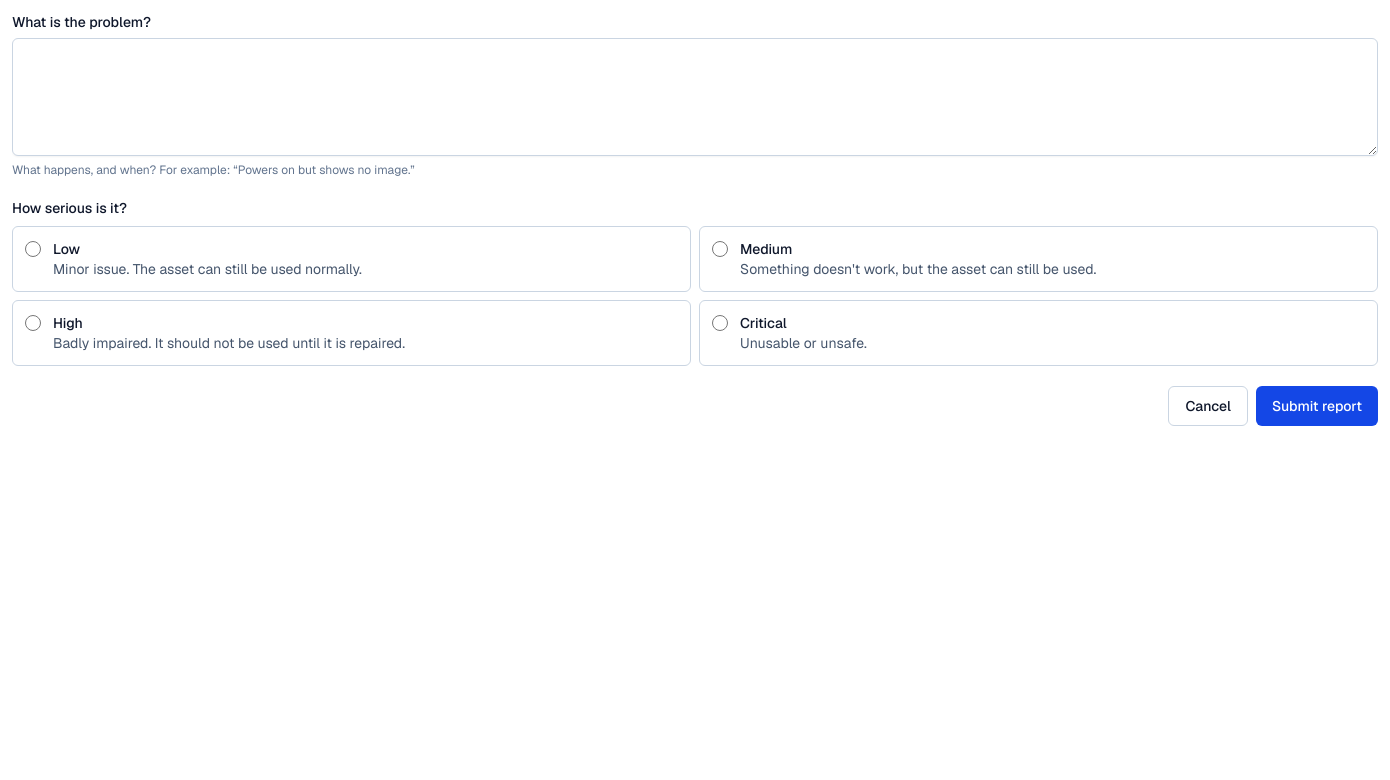
Test: ReportProblemForm › submits_the_description_and_priority_and_keeps_them_after_an_error
In the text box labelled "What is the problem?": point(695, 97) top-left (12, 38), bottom-right (1378, 156), type "Powers on, no image"
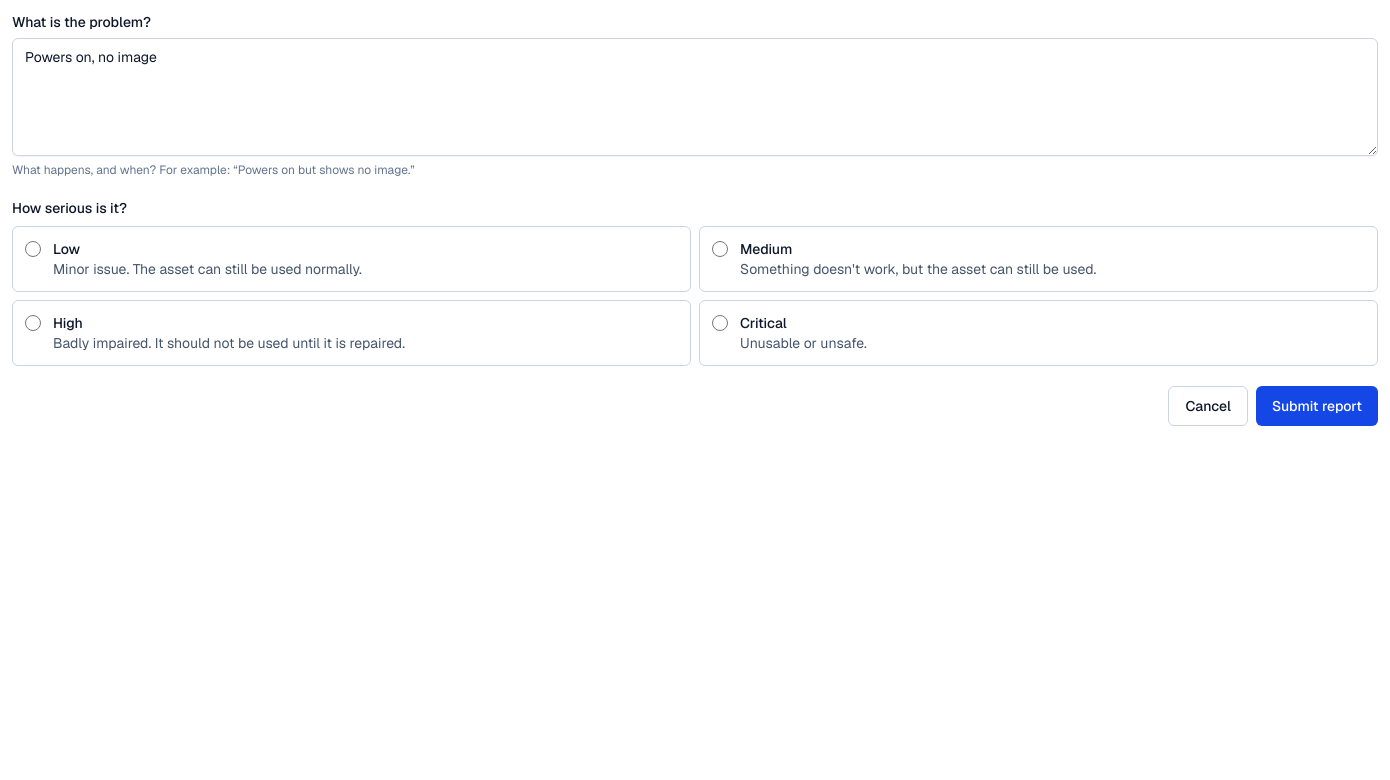
Click the radio button labelled "High": point(33, 323) top-left (25, 315), bottom-right (41, 331)
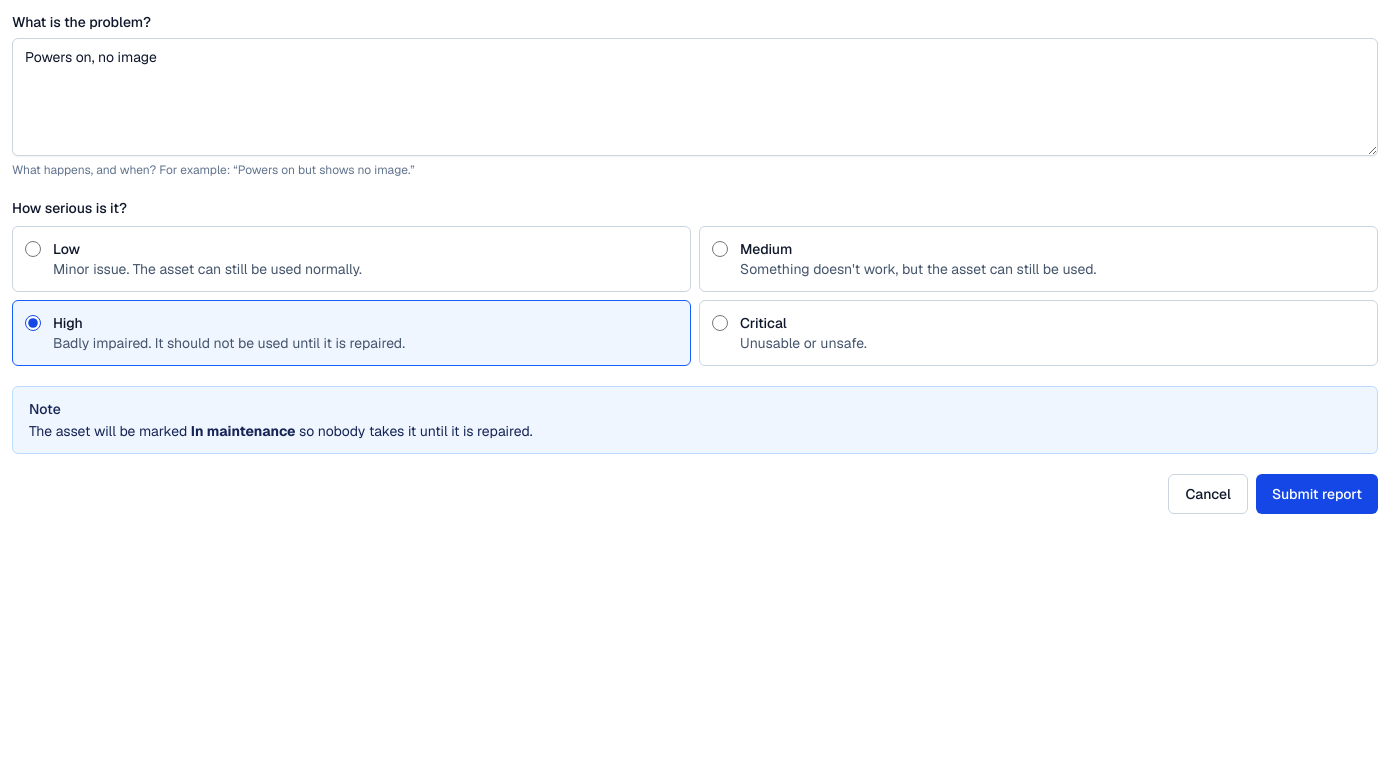
Click the button "Submit report": point(1317, 494) top-left (1256, 474), bottom-right (1378, 514)
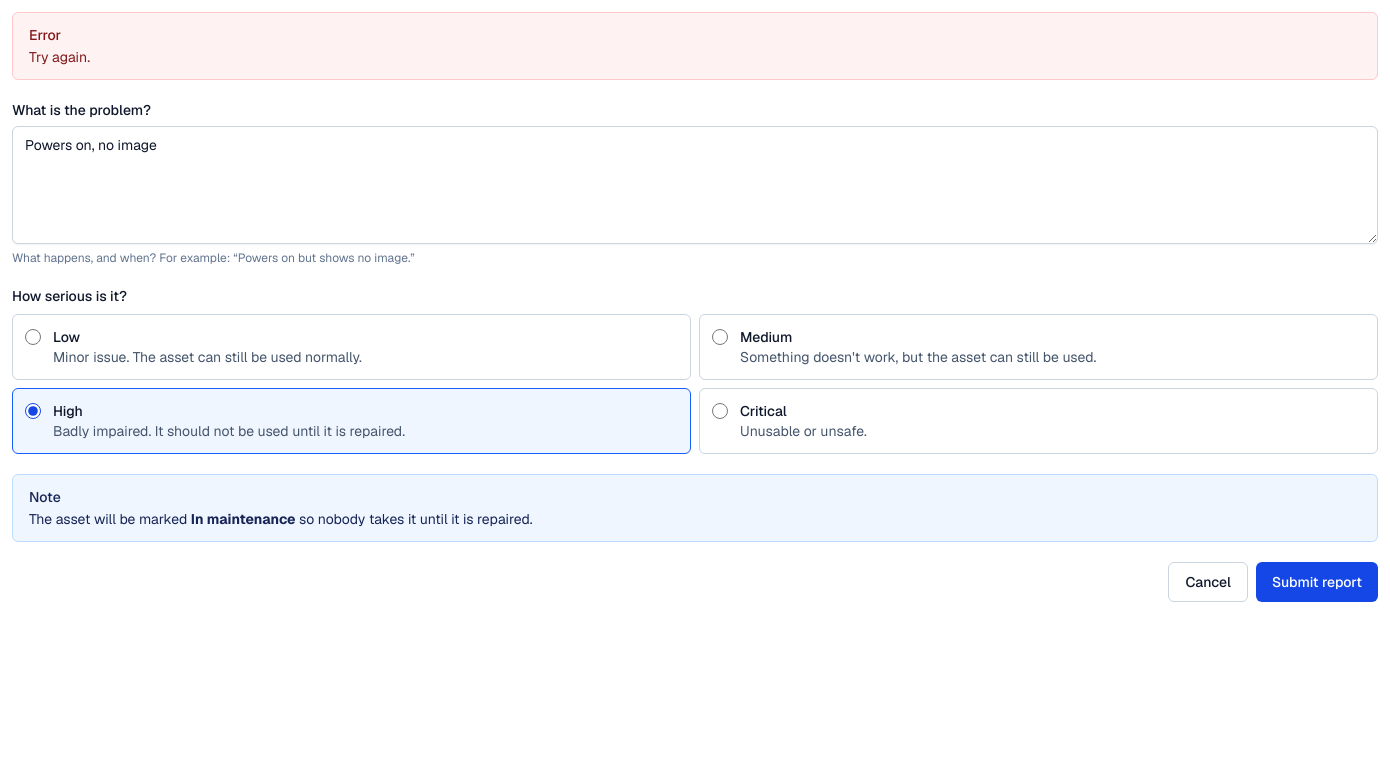
expect the radio button labelled "High" is checked: met, box top-left (25, 403), bottom-right (41, 419)
expect the message "Error Try again." is shown: met, box top-left (12, 12), bottom-right (1378, 80)
